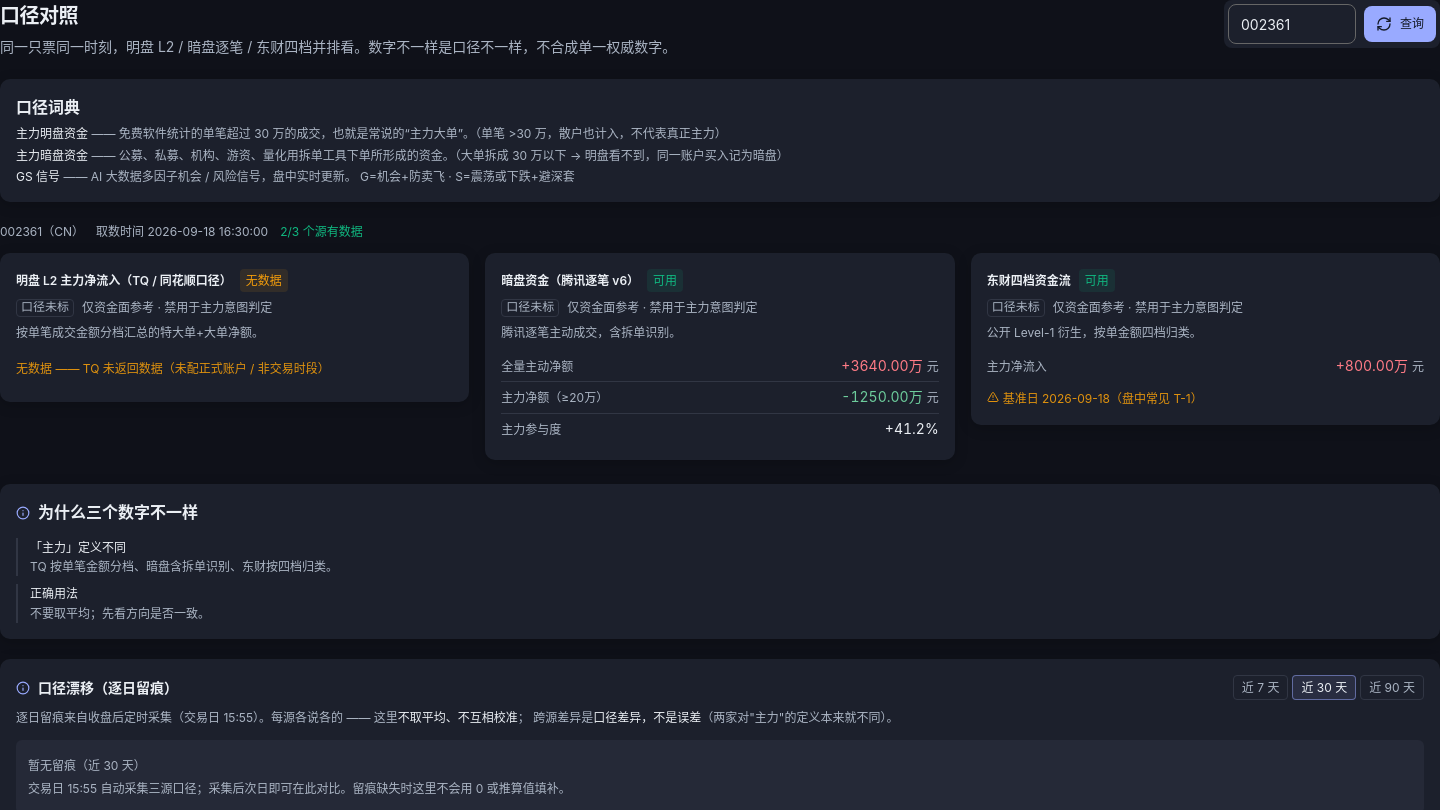
Test: 口径对照页 › 非法代码不发请求
Replace the text in the field named "股票代码" with "abc". click: (1292, 24)
box: [1228,4,1356,44]
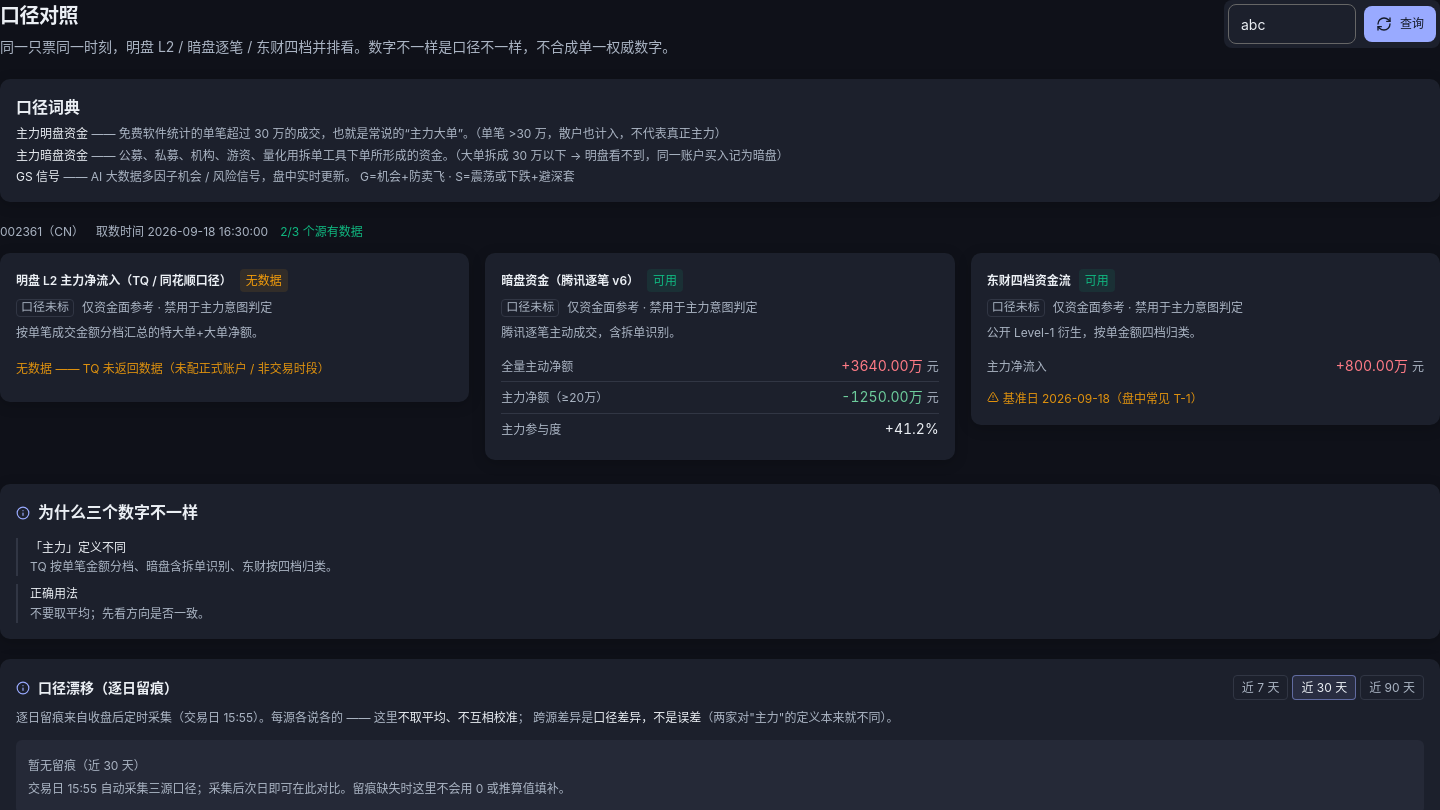
Click the button "查询". click: (1400, 24)
box: [1364,6,1436,42]
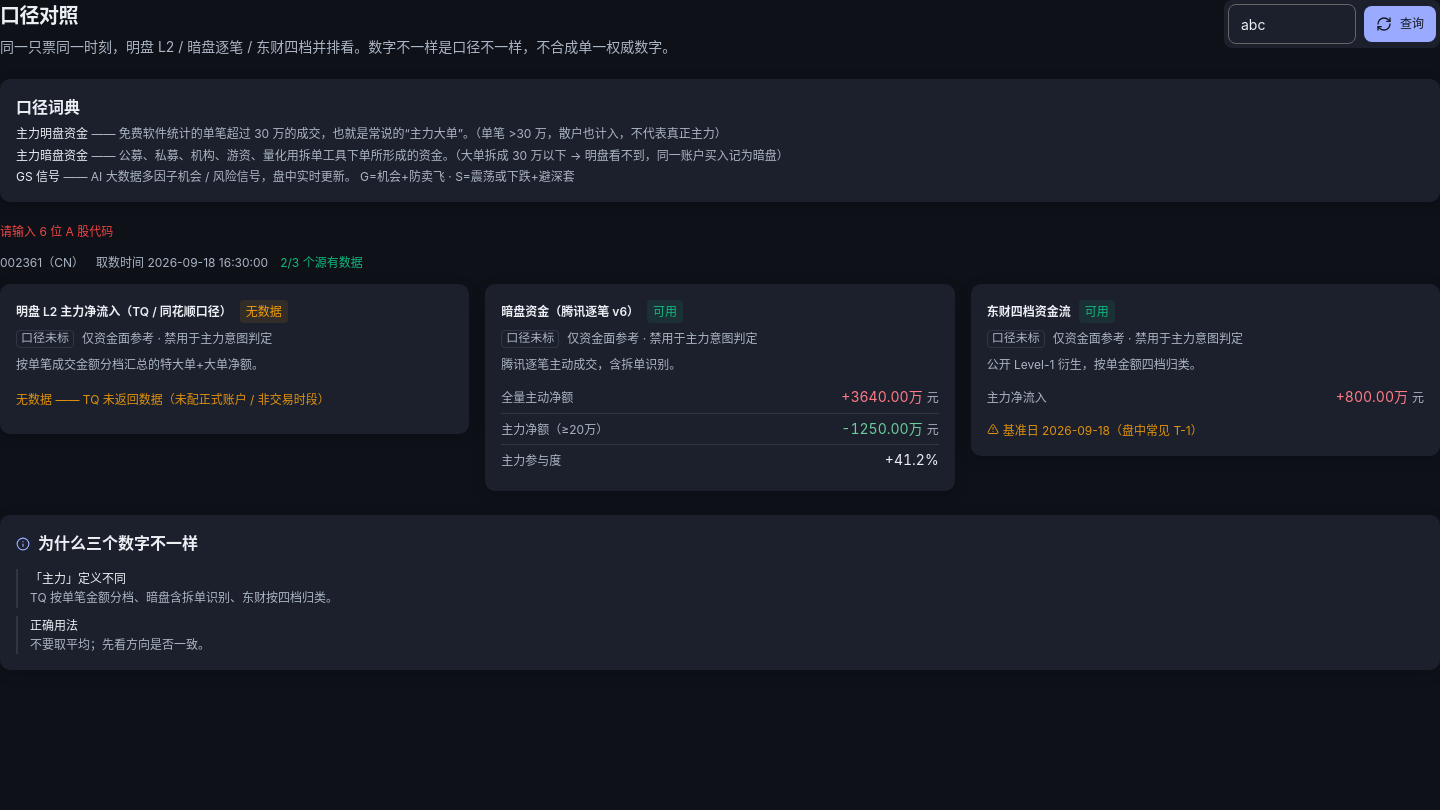
Expected: the text "请输入 6 位 A 股代码" is shown, [0,224,113,239]
